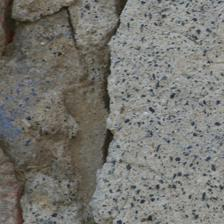Crack: (0, 57, 128, 101), (71, 34, 159, 61)
